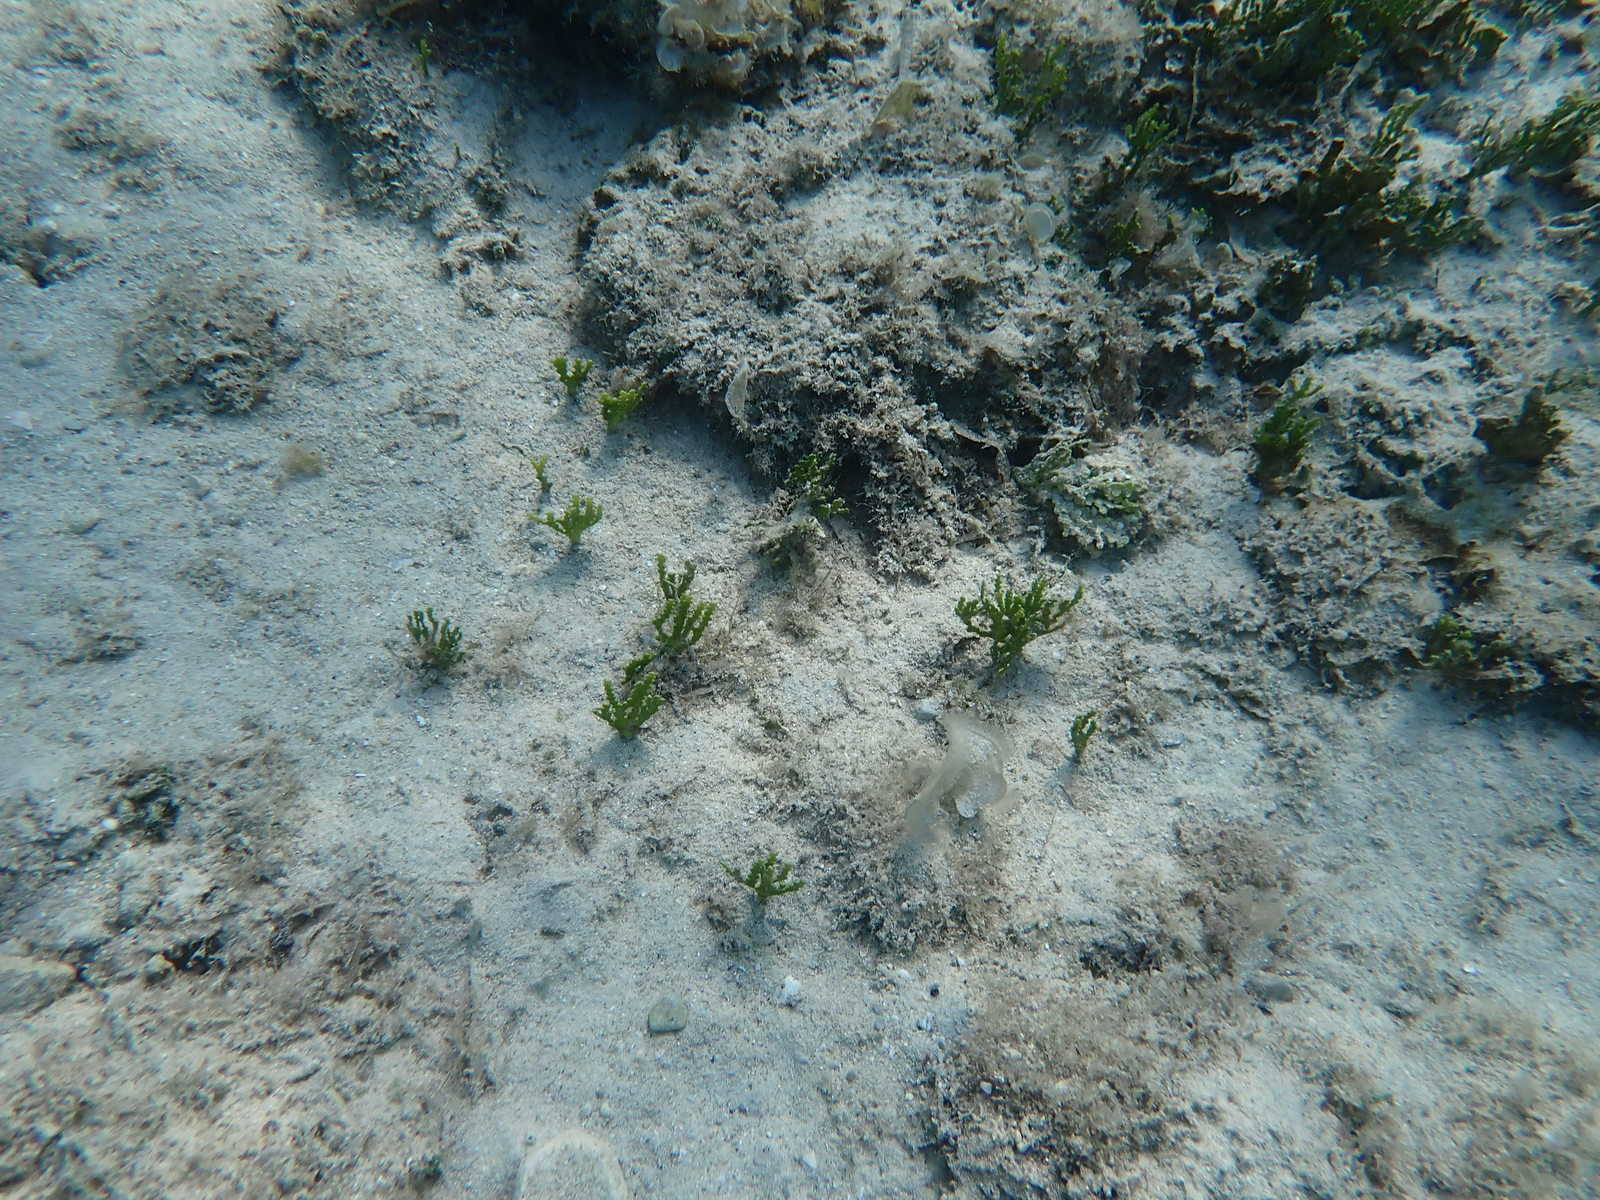halimeda: (957, 568, 1086, 674), (1257, 373, 1322, 482), (1048, 483, 1135, 555), (723, 845, 809, 915), (1366, 86, 1430, 176), (595, 673, 671, 742), (397, 599, 464, 673), (1123, 100, 1180, 179), (537, 497, 610, 553), (649, 600, 714, 654), (1037, 35, 1070, 140), (1022, 458, 1068, 521), (653, 553, 706, 605), (1430, 188, 1473, 247), (593, 389, 649, 435), (549, 349, 593, 402), (994, 32, 1020, 116), (1436, 616, 1475, 666), (523, 447, 554, 495), (787, 455, 834, 487), (808, 484, 850, 517), (1519, 116, 1546, 166), (1390, 183, 1427, 217), (1070, 705, 1090, 759), (1560, 89, 1579, 144), (1126, 211, 1139, 263), (1160, 218, 1179, 250), (1188, 205, 1208, 218)
